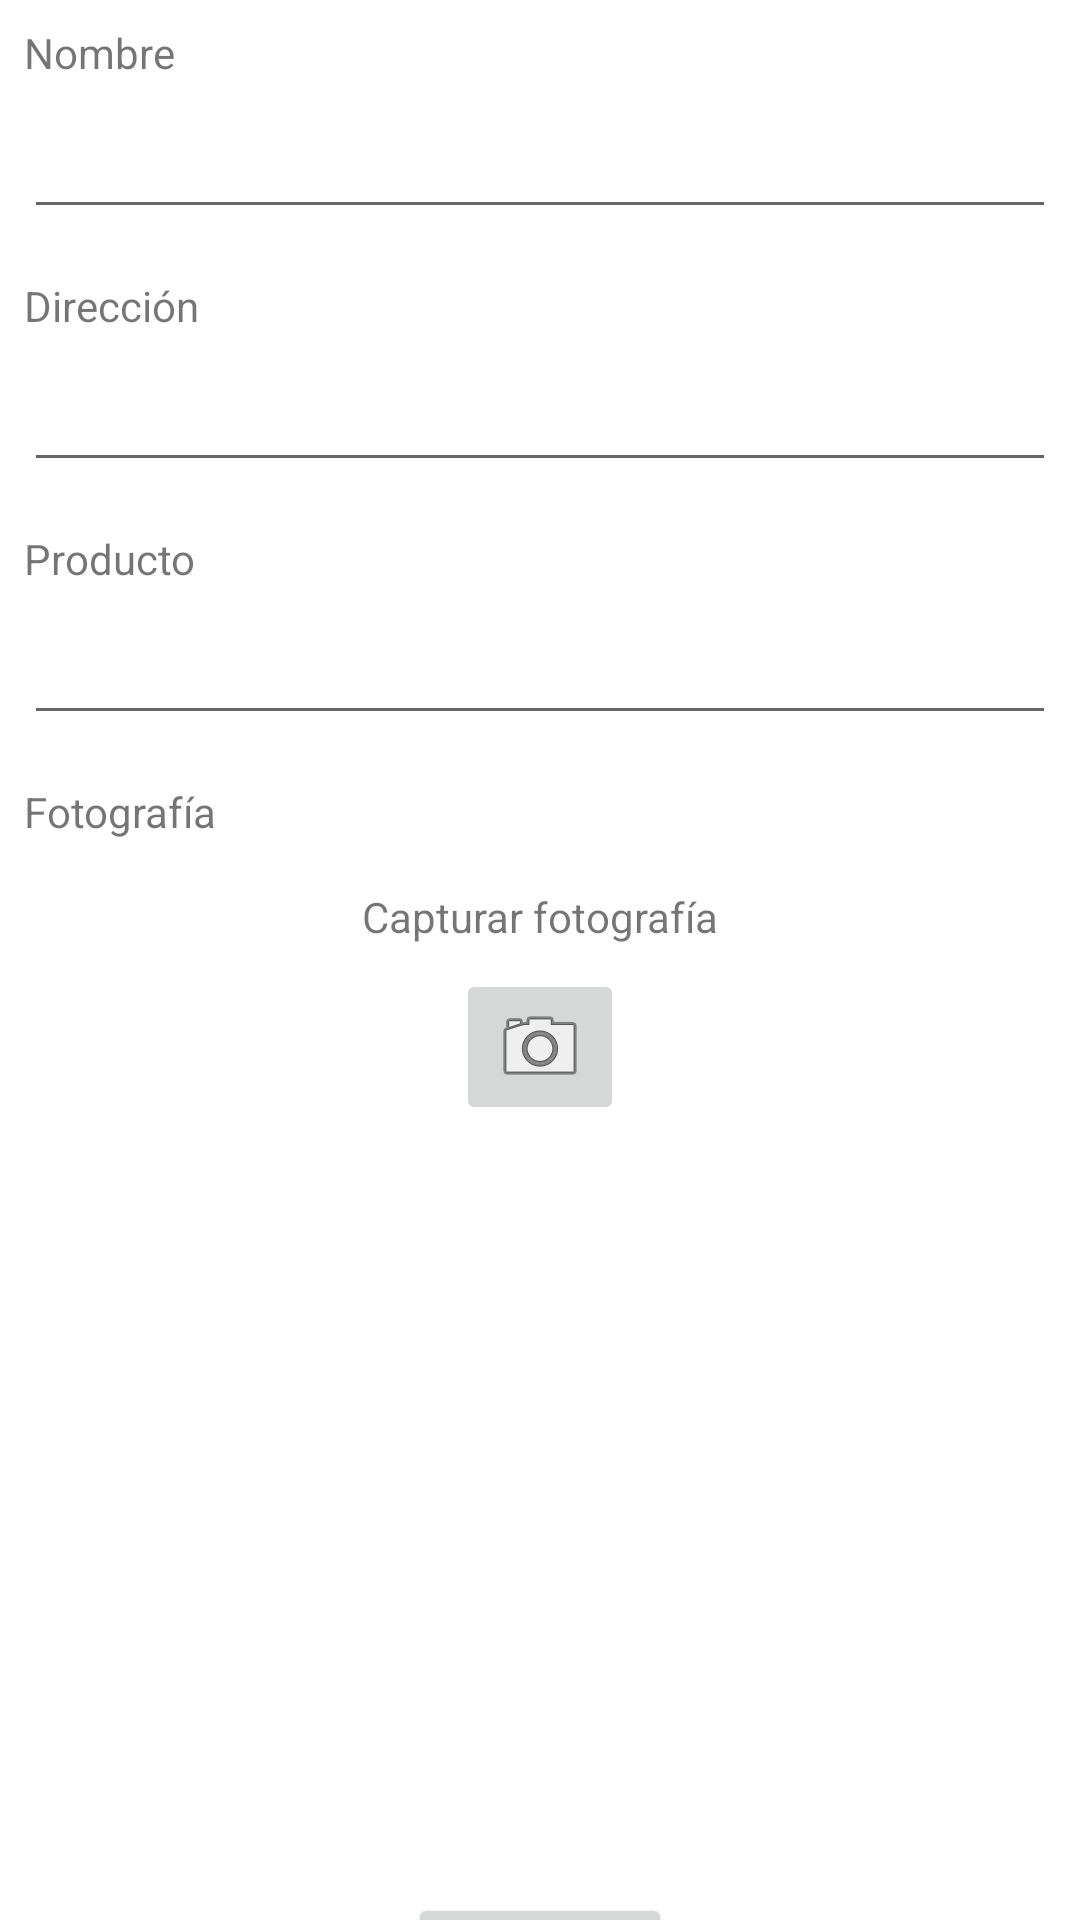

Icons on this 1080 x 1920 Android screen, each with its box as (x1, y1, x2, y2):
camera: (468, 987, 612, 1107)
